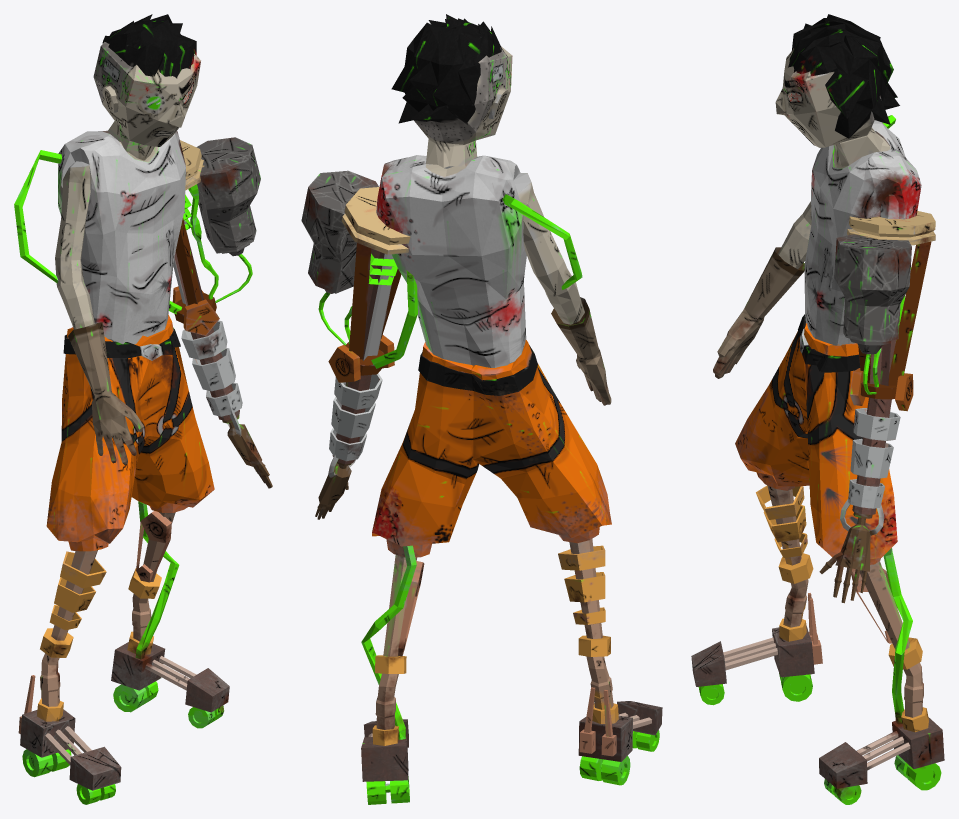
File: CyborgFINALAnimation_000156.obj
The picture shows the model from 3 angles, left to right: view 1: azimuth 30°, elevation 25°; view 2: azimuth 150°, elevation 25°; view 3: azimuth 270°, elevation 25°; orthographic projection. The views are drawn at different scales.
Parts seen in each view (by area): view 1: CyborgMesh_Cube.002; view 2: CyborgMesh_Cube.002; view 3: CyborgMesh_Cube.002.
Boxes of the visible parts, left/top/right/bottom form: CyborgMesh_Cube.002: left=14, top=14, right=272, bottom=804; CyborgMesh_Cube.002: left=301, top=14, right=662, bottom=804; CyborgMesh_Cube.002: left=691, top=14, right=944, bottom=804.
Bounding box in the file's own units: 3.76 × 9.69 × 2.97.
